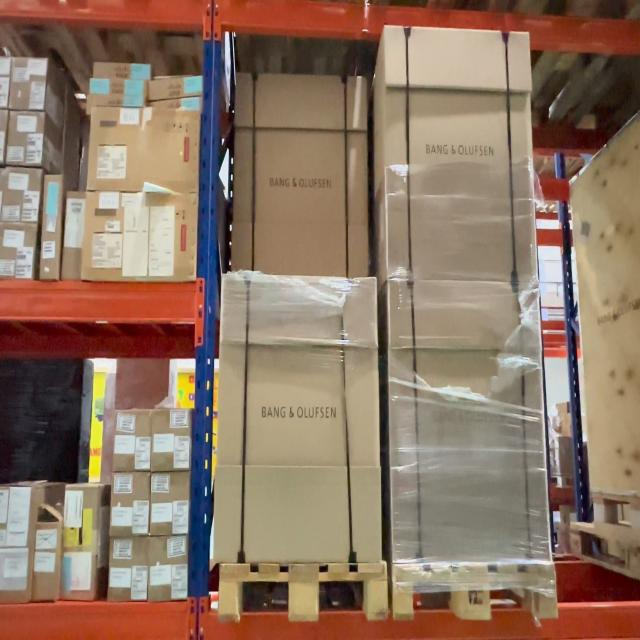box: (222, 280, 376, 568), (392, 286, 538, 564), (389, 31, 530, 278), (233, 78, 366, 270)
